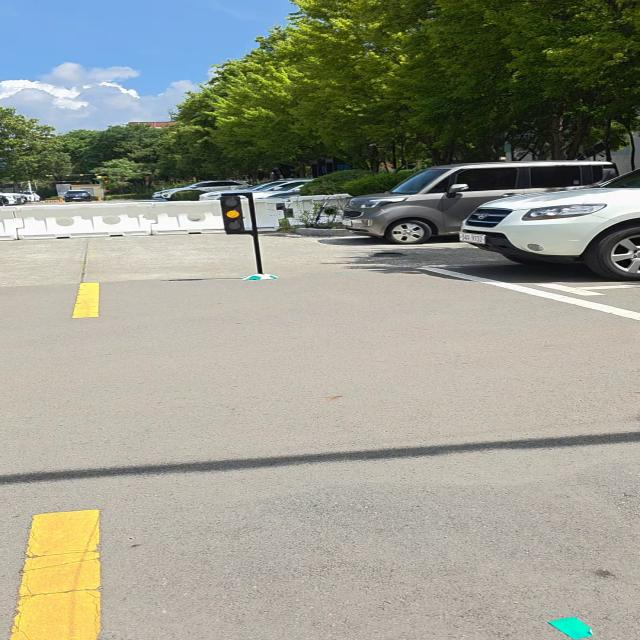yellow: (218, 195, 248, 234)
